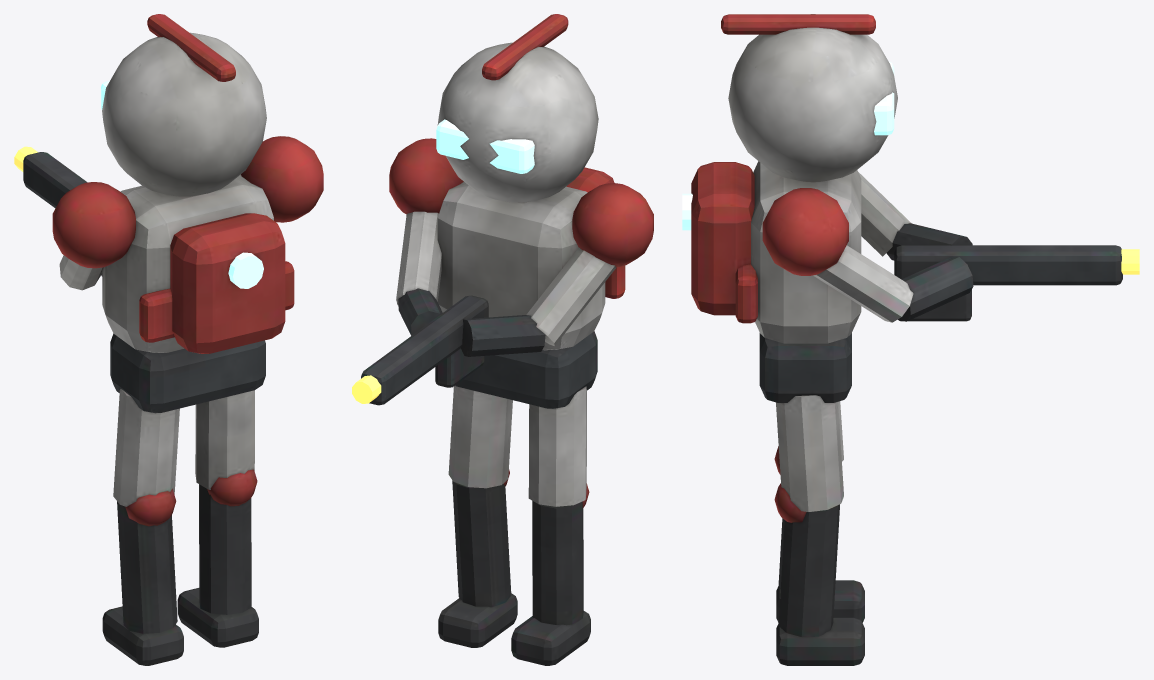
File: strike-leader.glb
3 views of the same model, side by side, from view 1: azimuth 30°, elevation 25°; view 2: azimuth 150°, elevation 25°; view 3: azimuth 270°, elevation 25° (orthographic). The views are drawn at different scales.
Visible parts, largest first — view 1: strike-leader, strike-leader_visor; view 2: strike-leader, strike-leader_visor, strike-leader_muzzle; view 3: strike-leader, strike-leader_visor.
Part boxes in pixels (left/top/right/bottom): strike-leader: left=23, top=14, right=323, bottom=665; strike-leader_visor: left=101, top=80, right=263, bottom=288; strike-leader: left=361, top=14, right=653, bottom=665; strike-leader_visor: left=436, top=119, right=534, bottom=173; strike-leader_muzzle: left=352, top=375, right=381, bottom=403; strike-leader: left=691, top=14, right=1122, bottom=665; strike-leader_visor: left=682, top=61, right=894, bottom=230.
Size of the model in its own units: 0.8281 by 1.87 by 1.24.
3 materials, 1 textured.
